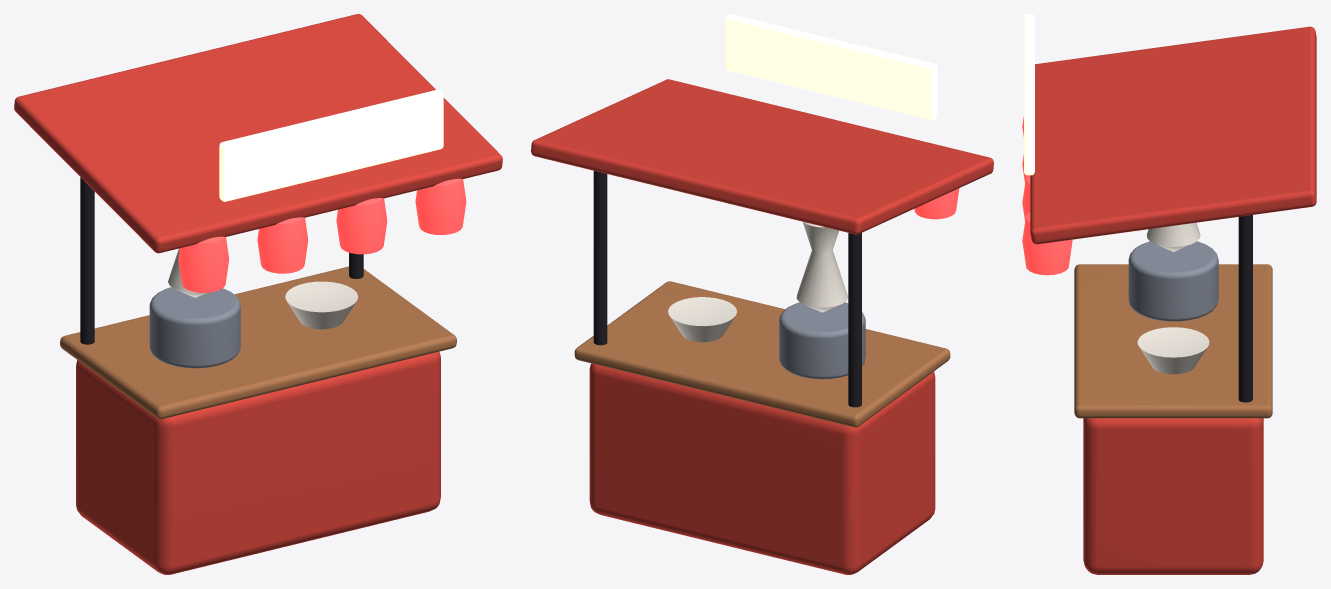
File: noodle_stall.glb
3 renders of one model, left to right at view 1: azimuth 30°, elevation 25°; view 2: azimuth 150°, elevation 25°; view 3: azimuth 270°, elevation 25°, orthographic. The views are drawn at different scales.
Parts seen in each view (by area): view 1: noodle_stall; view 2: noodle_stall; view 3: noodle_stall.
Boxes of the visible parts, box(x1,y1,x2,y2) form: noodle_stall: box(14, 14, 502, 574); noodle_stall: box(531, 14, 993, 574); noodle_stall: box(1022, 14, 1316, 574).
Bounding box in the file's own units: 2.2 × 2.72 × 1.63.
1 material, 1 textured.
